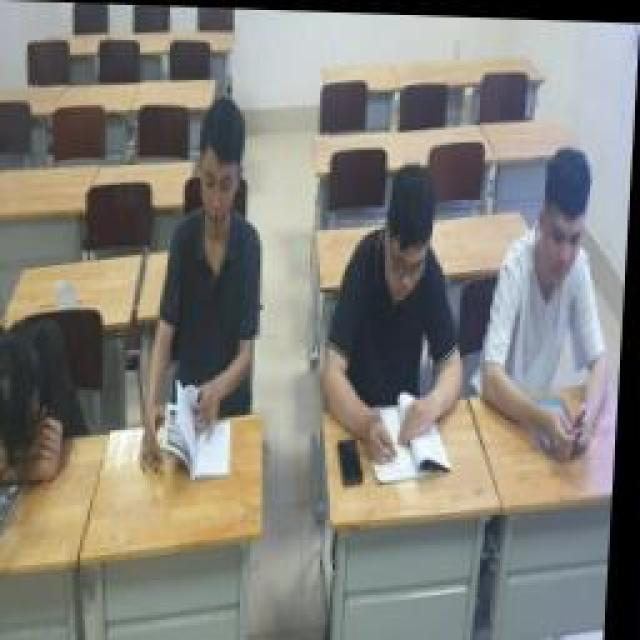sleep: (0, 313, 85, 505)
study: (140, 100, 272, 478), (320, 160, 475, 455), (488, 138, 622, 450)
